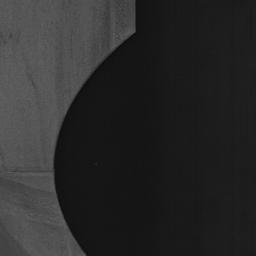Crescent gap: (54, 33, 134, 256)
